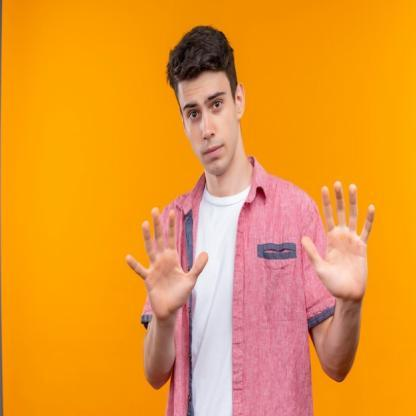stop: (123, 201, 209, 323), (298, 176, 377, 307)
